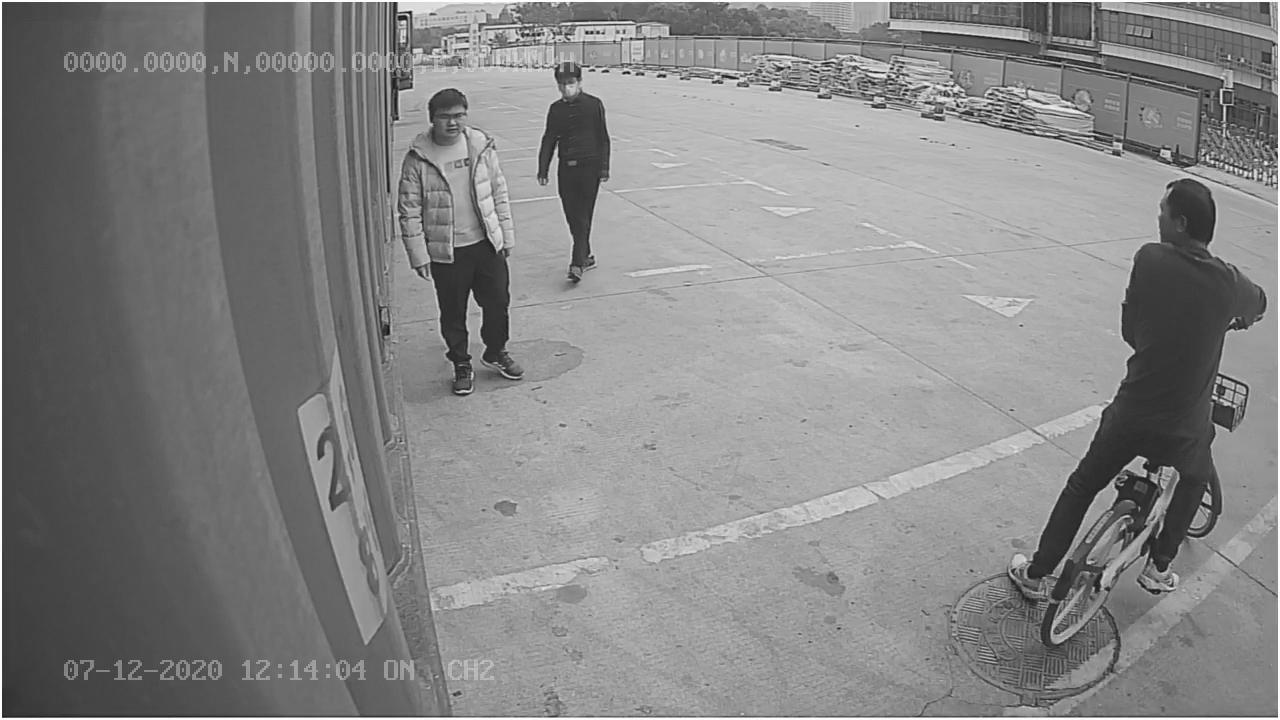person: (532, 62, 613, 289)
